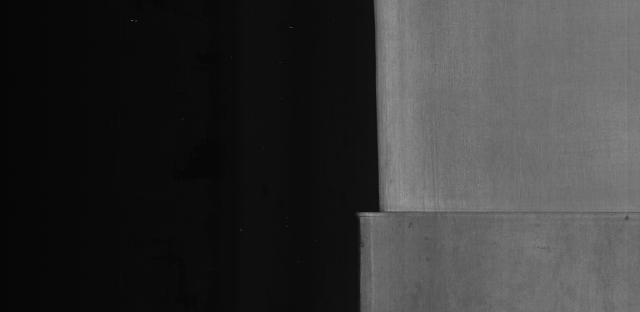welding_line: (354, 204, 640, 224)
